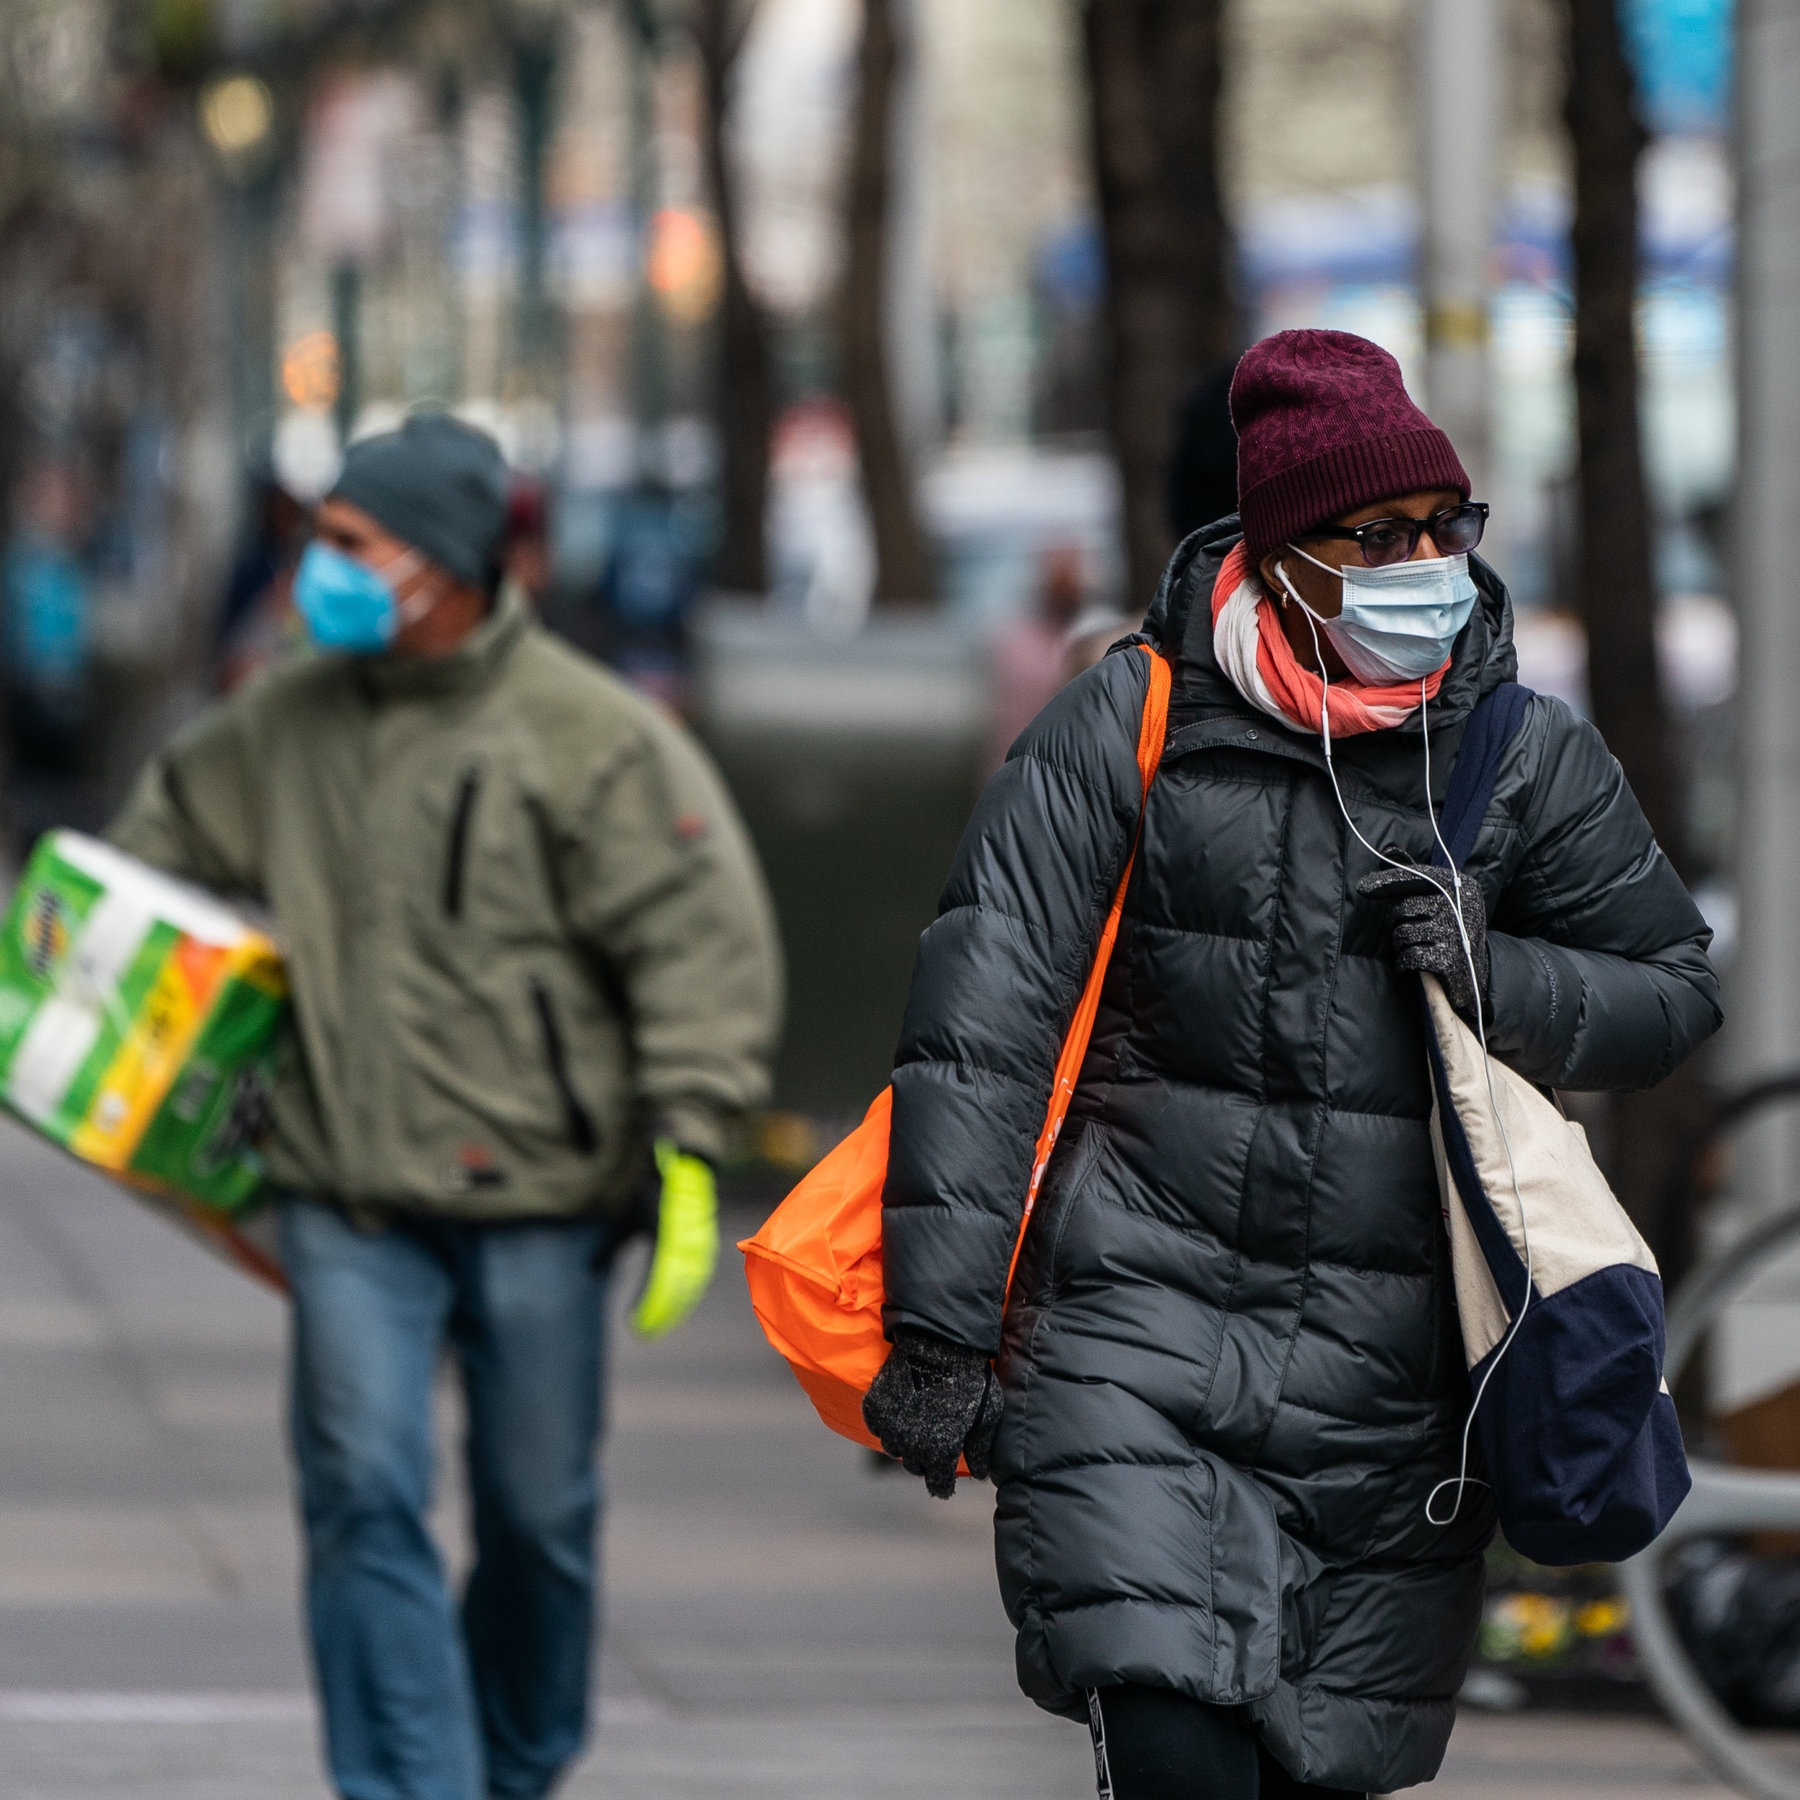with_mask: (1250, 469, 1493, 703), (289, 465, 499, 646)
